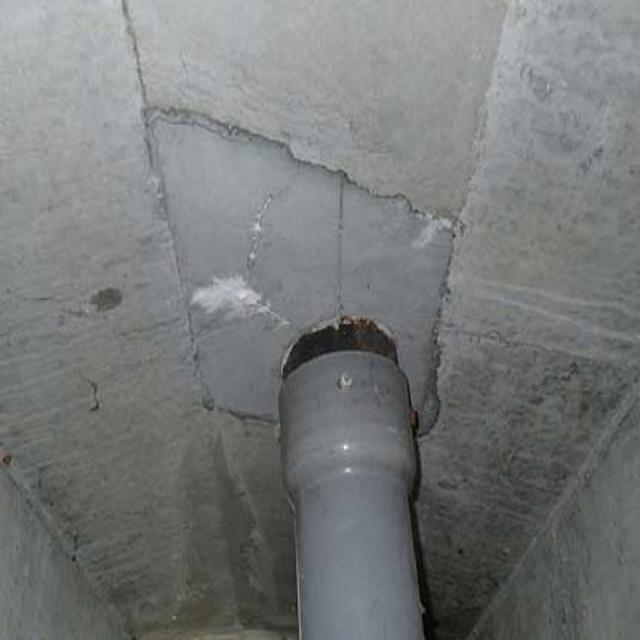freelime: (179, 263, 290, 328)
